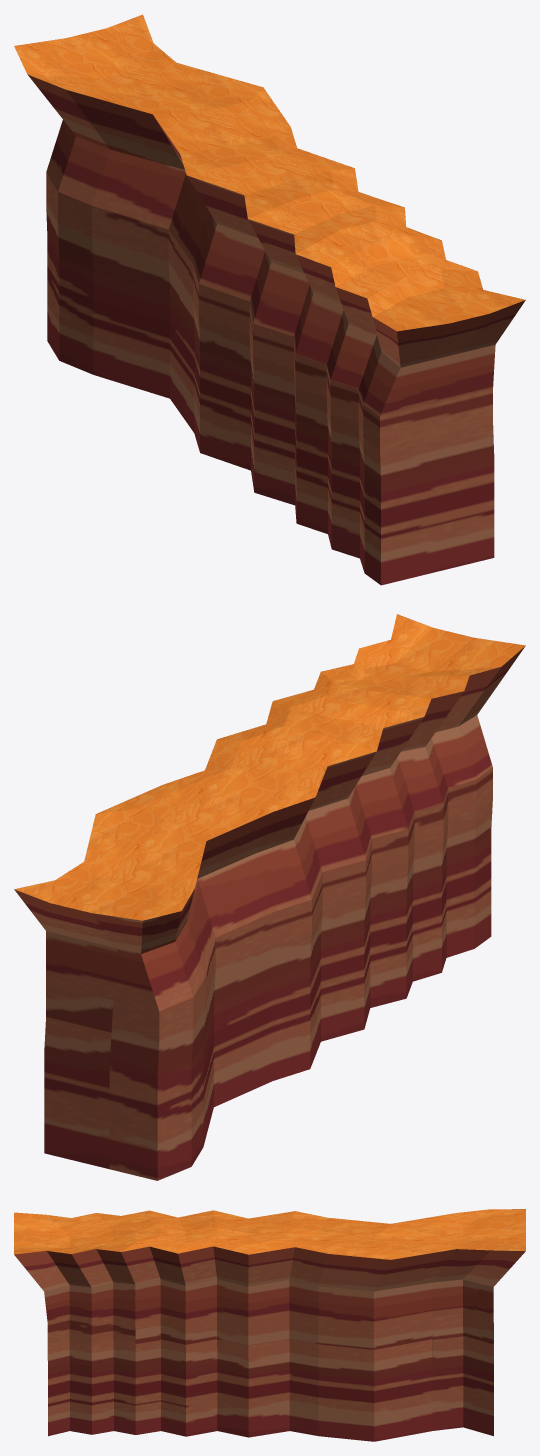
File: montanhas_deserto_overword .fbx
3 renders of one model, top to bottom at view 1: azimuth 30°, elevation 25°; view 2: azimuth 150°, elevation 25°; view 3: azimuth 270°, elevation 25°, orthographic. The views are drawn at different scales.
Parts seen in each view (by area): view 1: Cube, Cube.001; view 2: Cube, Cube.001; view 3: Cube, Cube.001.
Boxes of the visible parts, left/top/right/bottom form: Cube: left=17, top=39, right=525, bottom=585; Cube.001: left=14, top=14, right=525, bottom=331; Cube: left=14, top=637, right=525, bottom=1180; Cube.001: left=14, top=614, right=525, bottom=920; Cube: left=14, top=1209, right=525, bottom=1441; Cube.001: left=14, top=1209, right=525, bottom=1259.
Bounding box in the file's own units: 1024 × 1725 × 4220.
